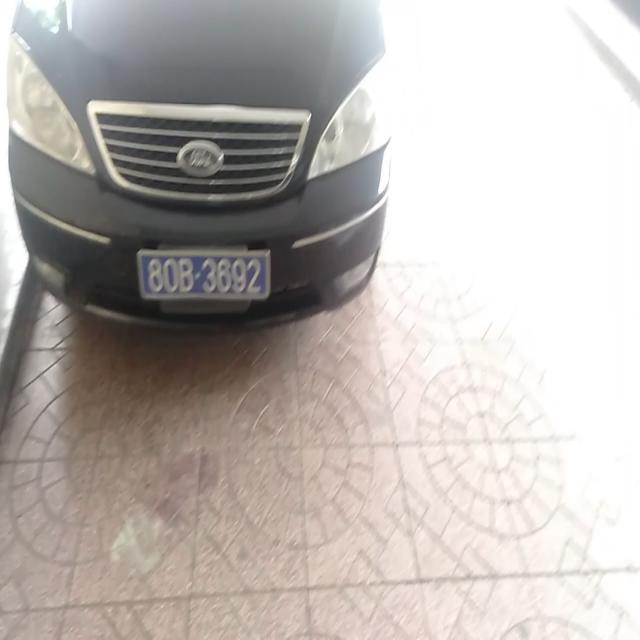bien_xanh: (137, 242, 268, 300)
